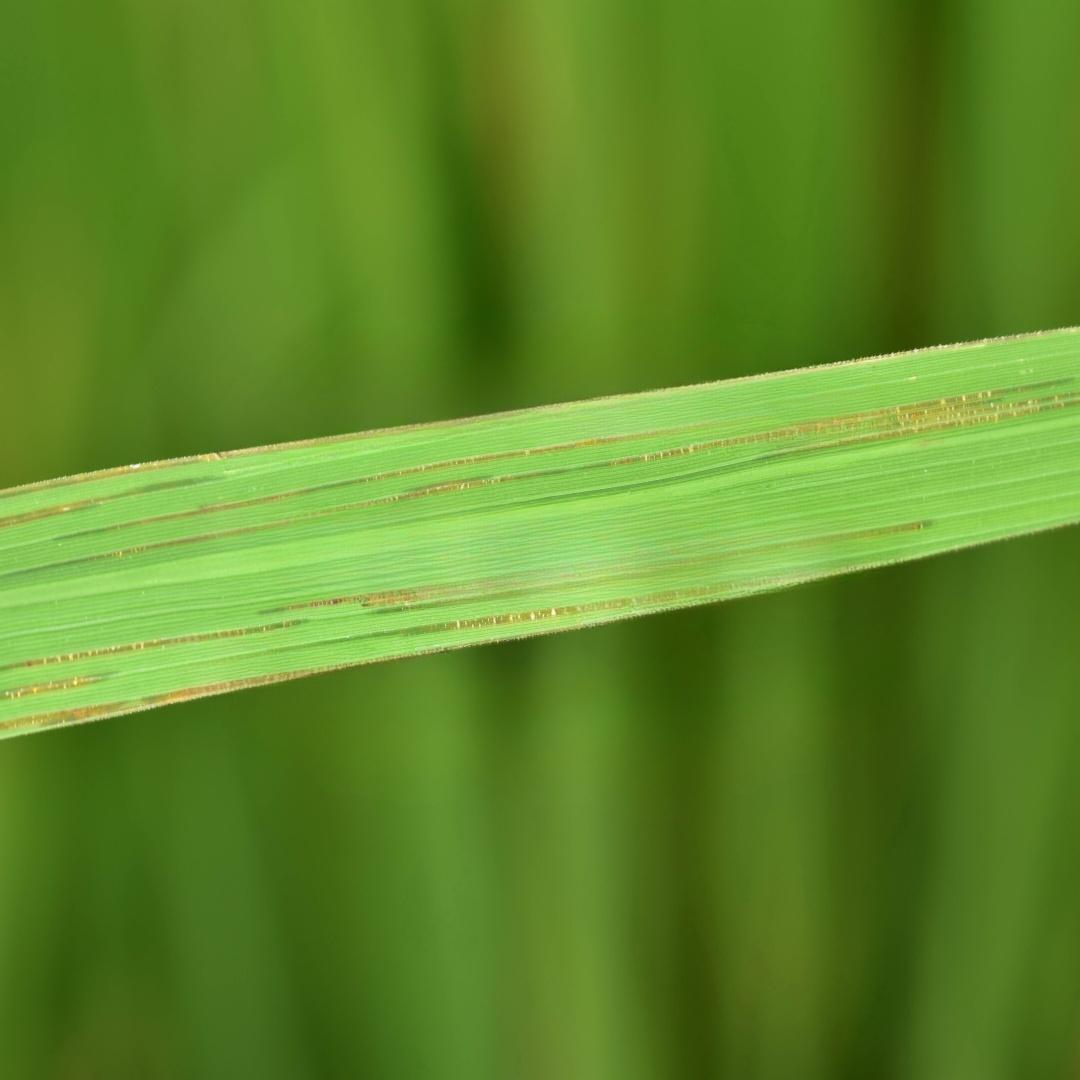BLS: (0, 378, 1079, 579), (53, 425, 714, 540), (1, 388, 682, 497), (187, 588, 728, 666), (0, 660, 388, 733), (264, 562, 633, 613), (634, 519, 934, 576), (0, 618, 308, 671), (317, 578, 625, 619), (0, 477, 226, 527), (1, 672, 123, 699)
LEAF: (0, 329, 1079, 738)
